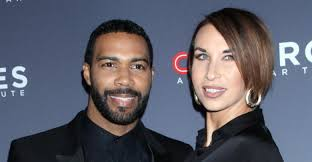white_female: (188, 20, 250, 118)
